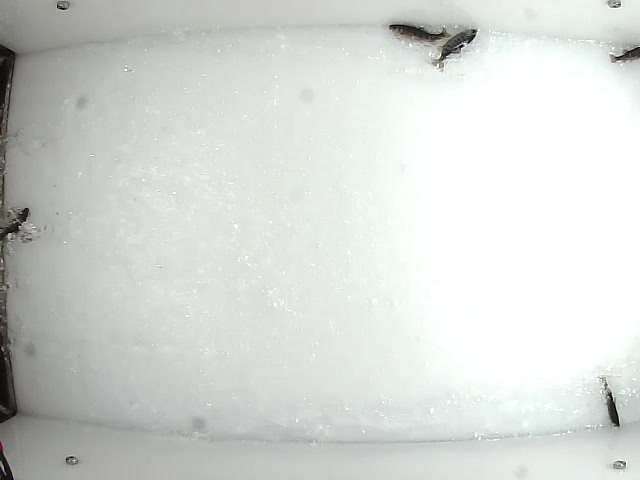fish: (429, 26, 477, 71), (387, 23, 453, 48), (594, 369, 621, 427)
